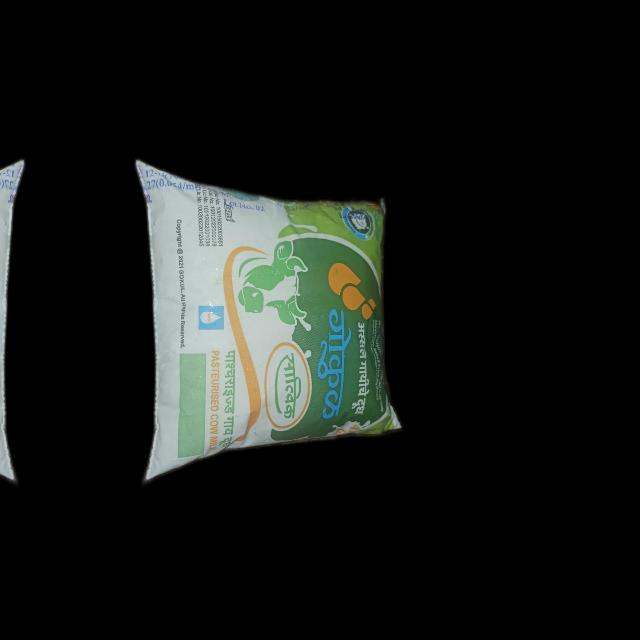Gokul Milk 500ml: (132, 156, 410, 470)
